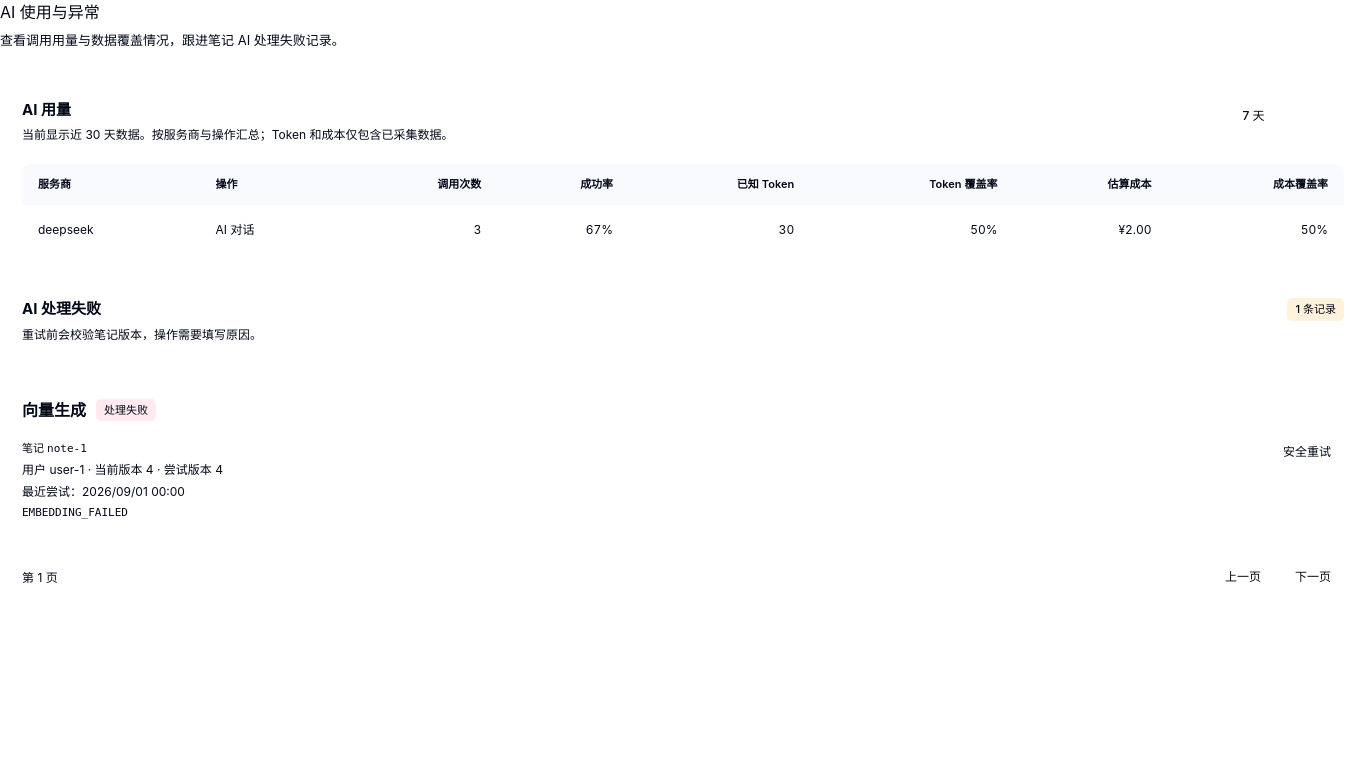
Test case: AiPage › retains retry errors in the dialog without refetching failures
Click the button "安全重试". click: (1307, 453)
box: [1270,435,1344,471]
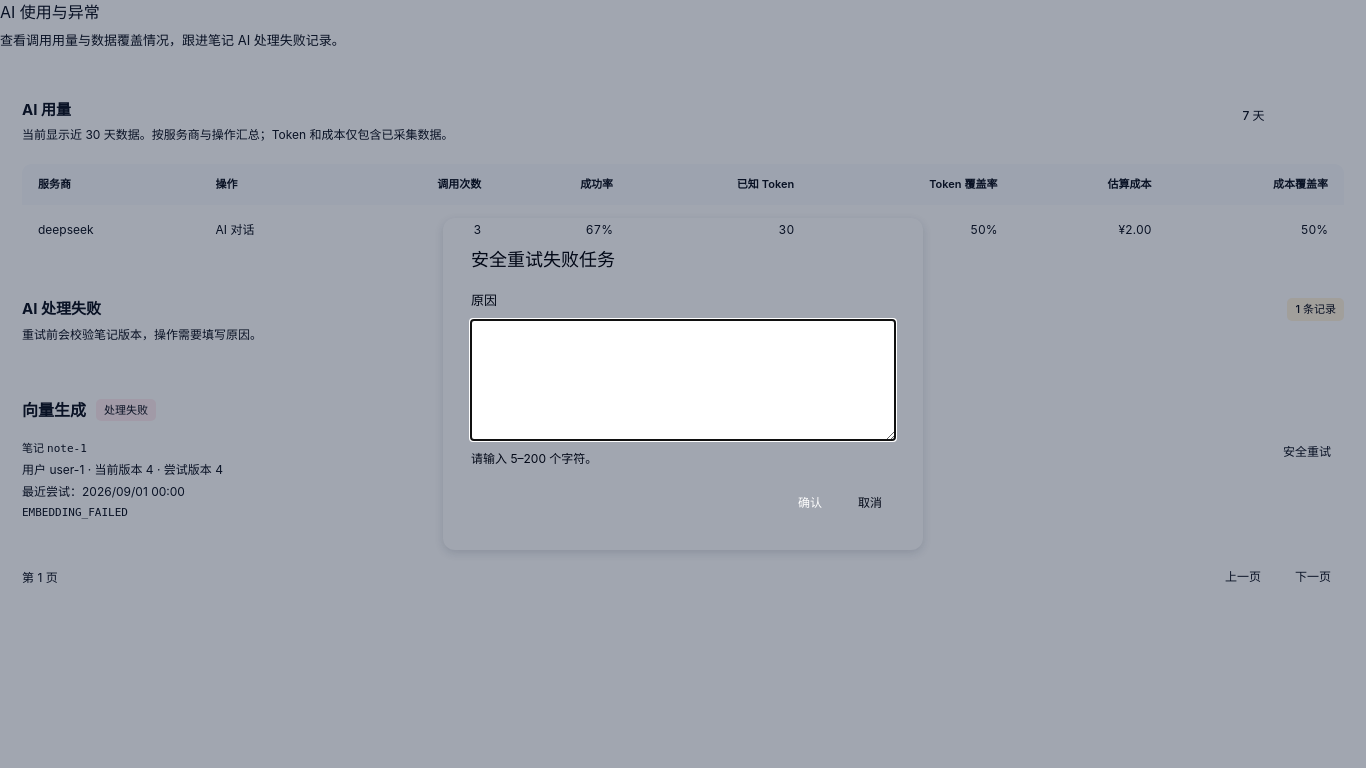
Type "重新生成缺失向量" into the text box labelled "原因". click: (683, 380)
box: [471,320,895,440]
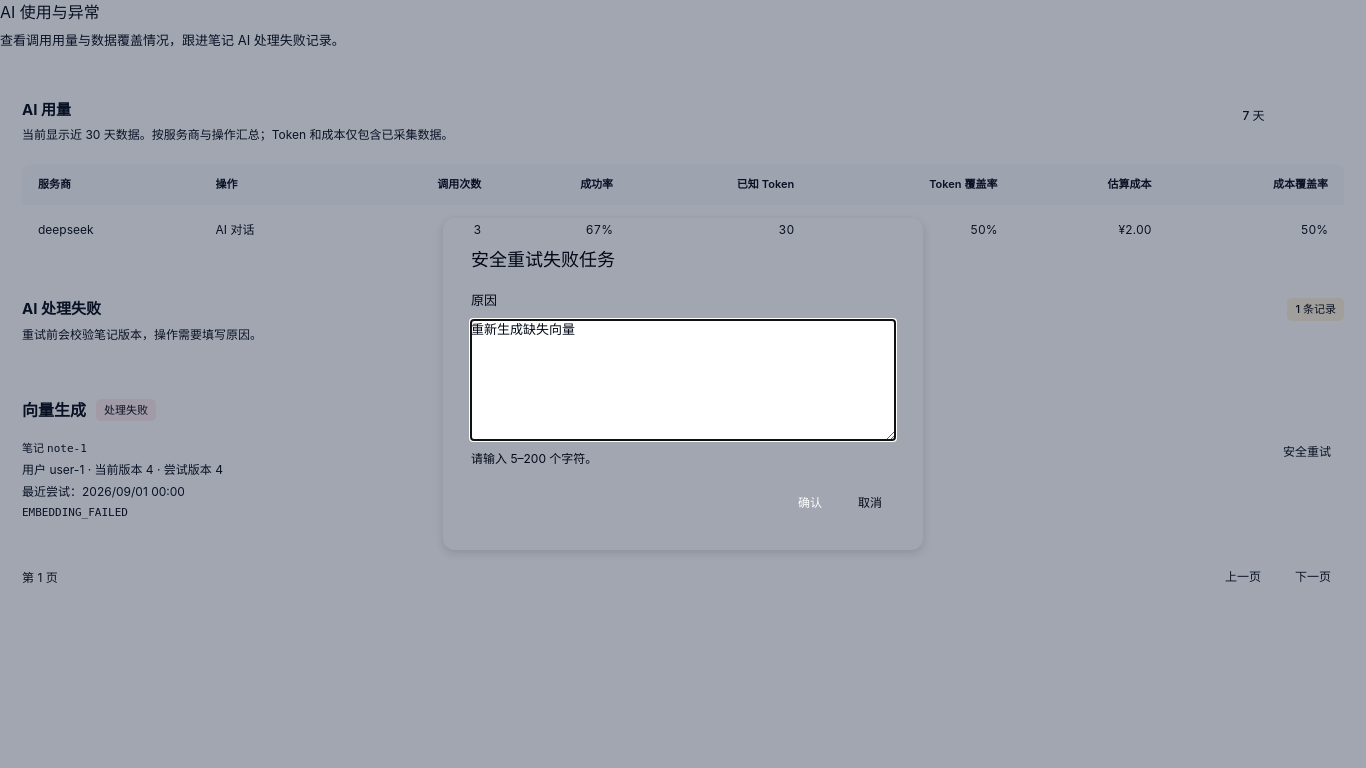
Click the button "确认". click: (810, 504)
box: [785,486,835,522]
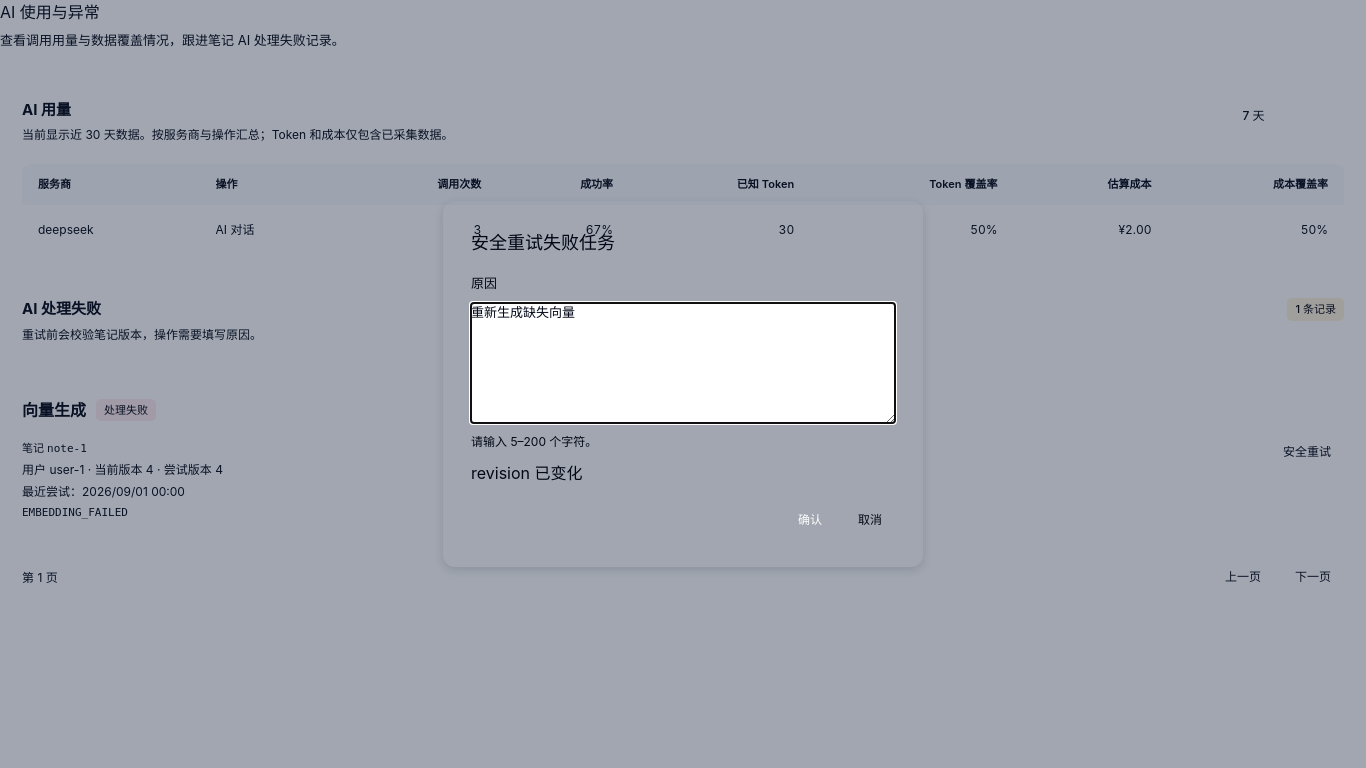
Check: the dialog is shown, box [443,201,923,567]
Check: the message reads "revision 已变化", box [471,463,582,483]
